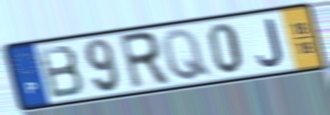0: (206, 21, 244, 76)
9: (85, 36, 124, 94)
B: (35, 43, 86, 101)
J: (256, 17, 286, 69)
Q: (159, 27, 214, 82)
R: (116, 29, 173, 92)
